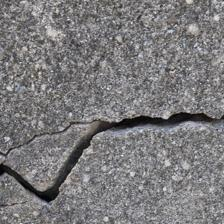Crack: (49, 22, 154, 117), (0, 10, 109, 91), (83, 33, 155, 66)
